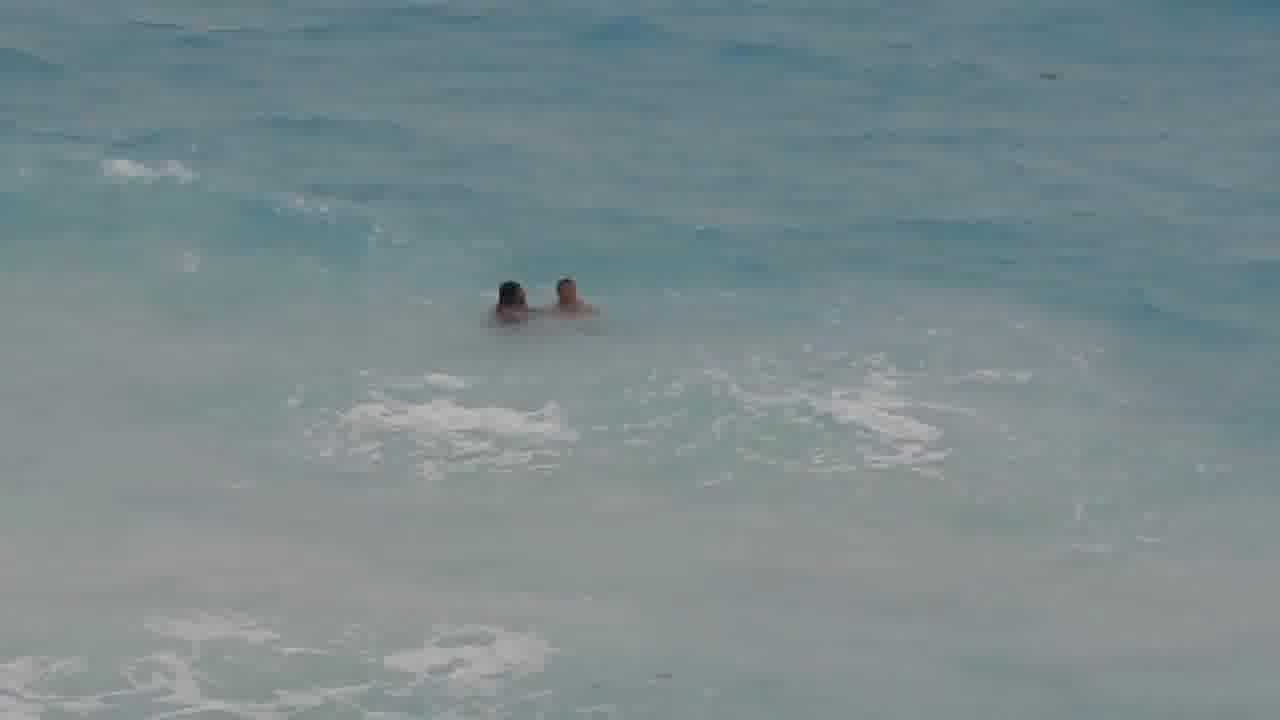human: (486, 279, 533, 319), (551, 271, 584, 315)
